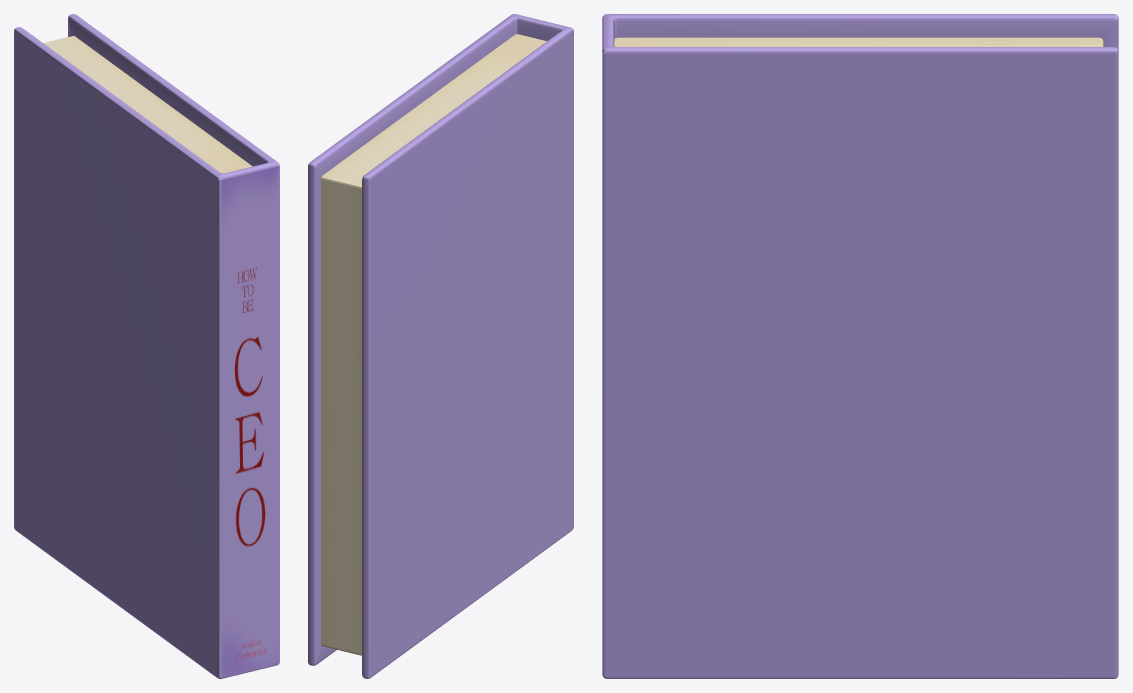
File: Aato_book3.fbx
The picture shows the model from 3 angles, left to right: view 1: azimuth 30°, elevation 25°; view 2: azimuth 150°, elevation 25°; view 3: azimuth 270°, elevation 25°; orthographic projection. The views are drawn at different scales.
Visible parts, largest first — view 1: aatobook8; view 2: aatobook8; view 3: aatobook8.
Boxes of the visible parts, x1,y1,x2,y2 form: aatobook8: (14, 14, 279, 678); aatobook8: (308, 14, 573, 678); aatobook8: (602, 14, 1118, 678).
Bounding box in the file's own units: 0.0015 × 0.0116 × 0.00863.
Materials: 1 (1 with a texture image).
